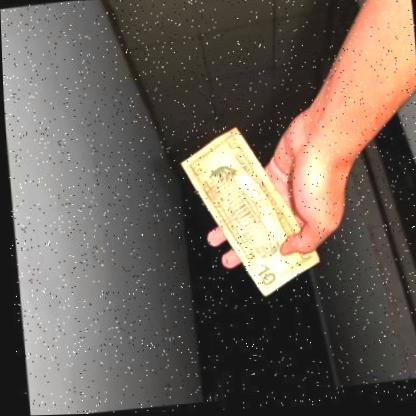ten-back: (172, 120, 320, 309)
